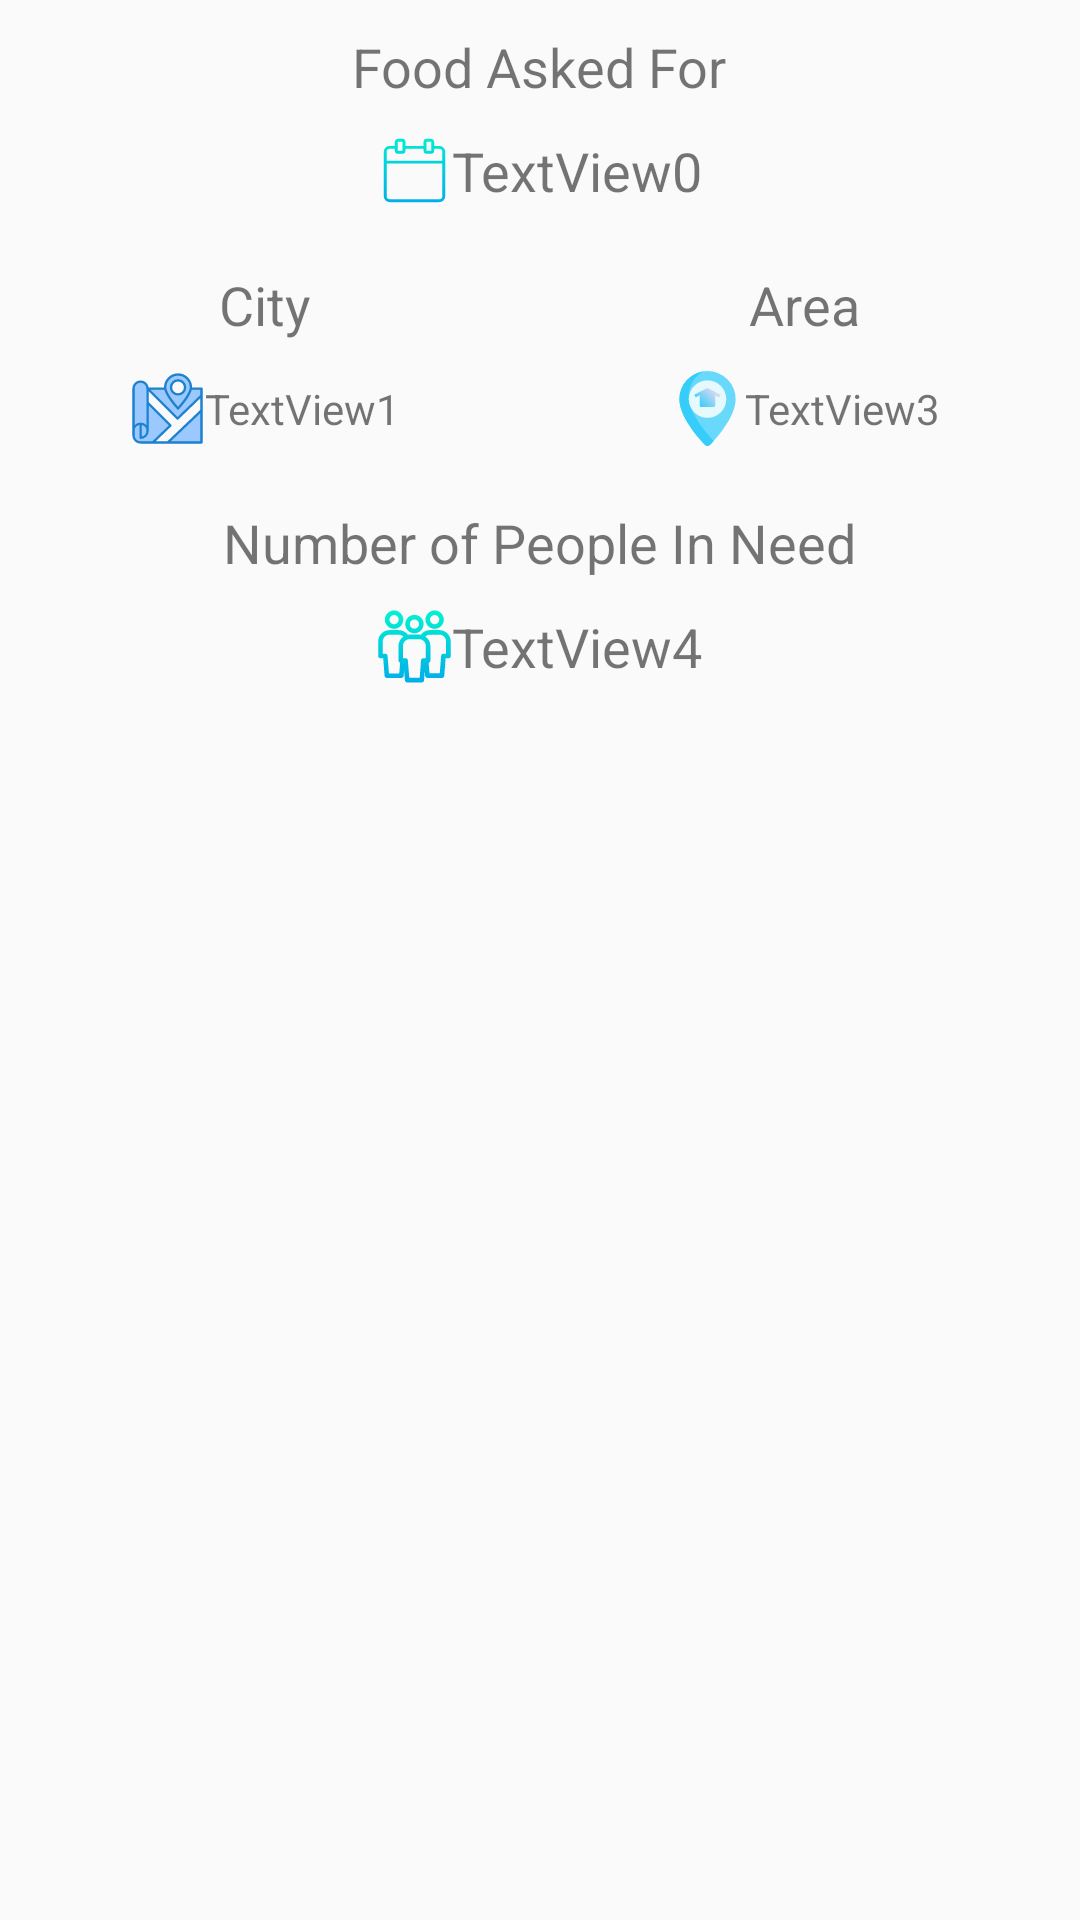

Where icons sit on this 1080px×1920px app screen, as bbox(x1, y1, x2, y2):
address: bbox(679, 371, 736, 446)
event: bbox(383, 138, 446, 203)
map: bbox(132, 373, 203, 444)
